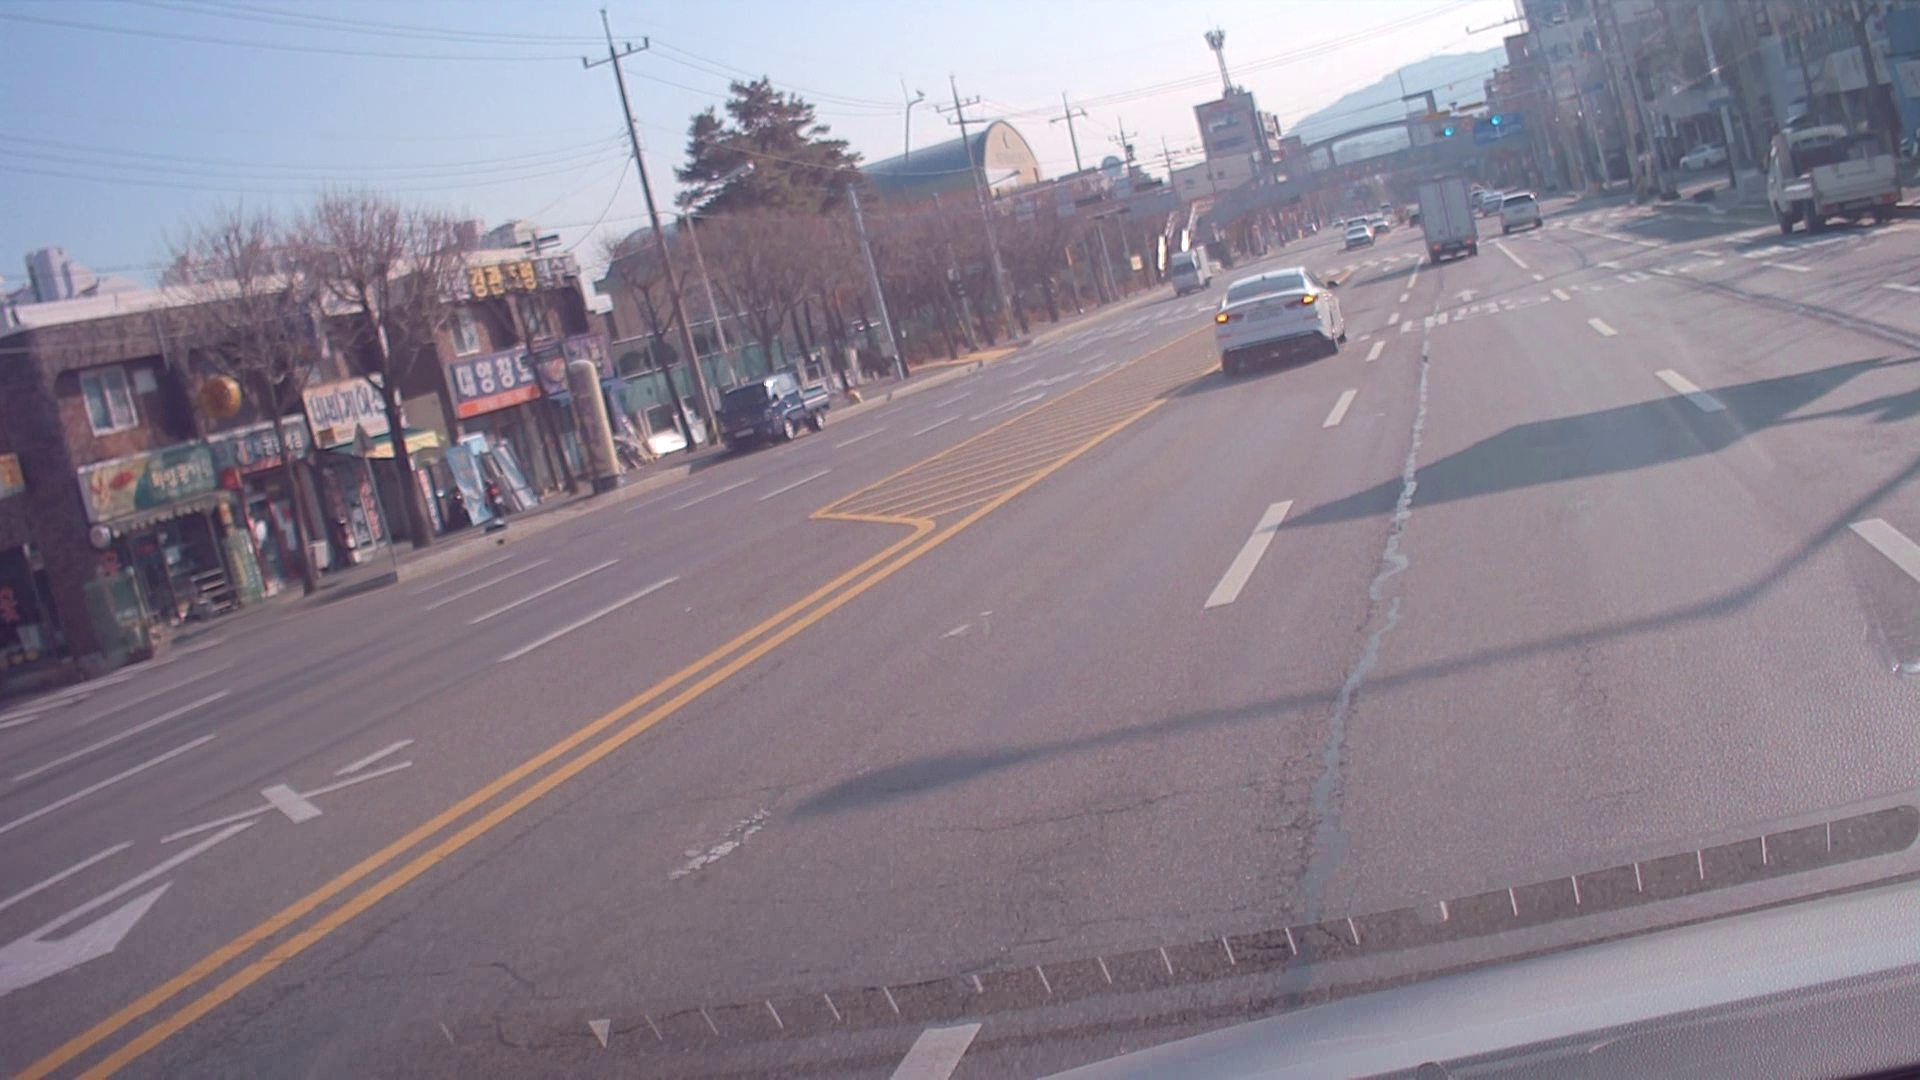trafficLight: (1427, 111, 1516, 140)
